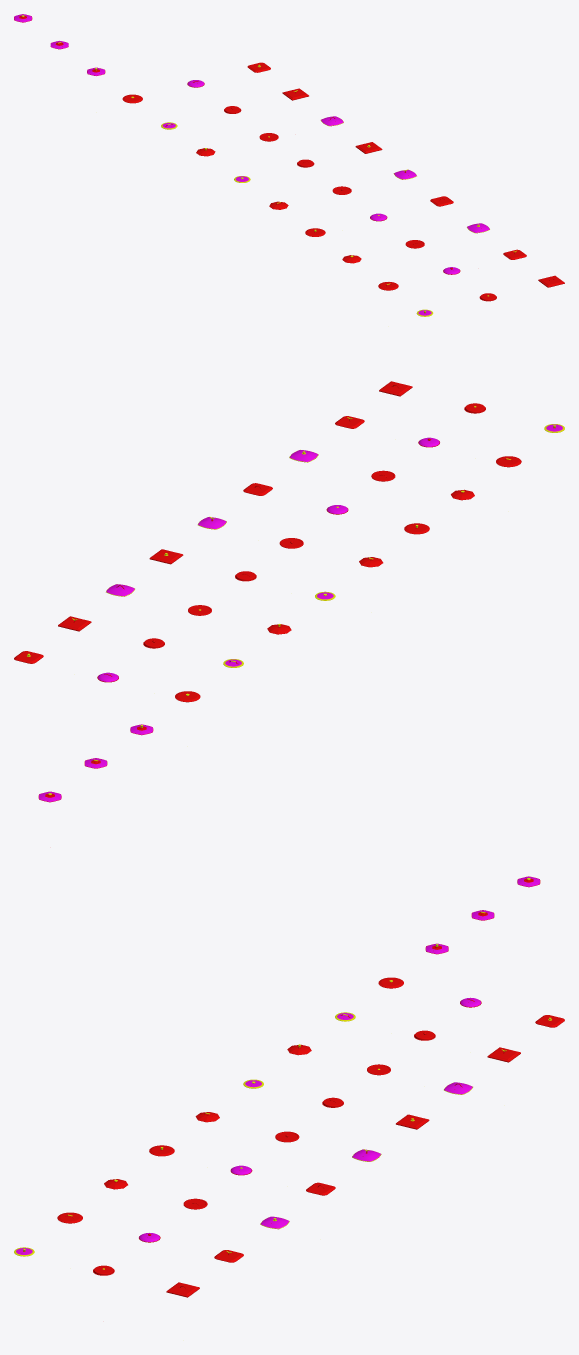
File: pan_lids_grp.fbx
The picture shows the model from 3 angles, top to bottom: view 1: azimuth 30°, elevation 25°; view 2: azimuth 150°, elevation 25°; view 3: azimuth 330°, elevation 25°; orthographic projection. The views are drawn at different scales.
Size of the model in its own units: 228 by 67.93 by 1126.
